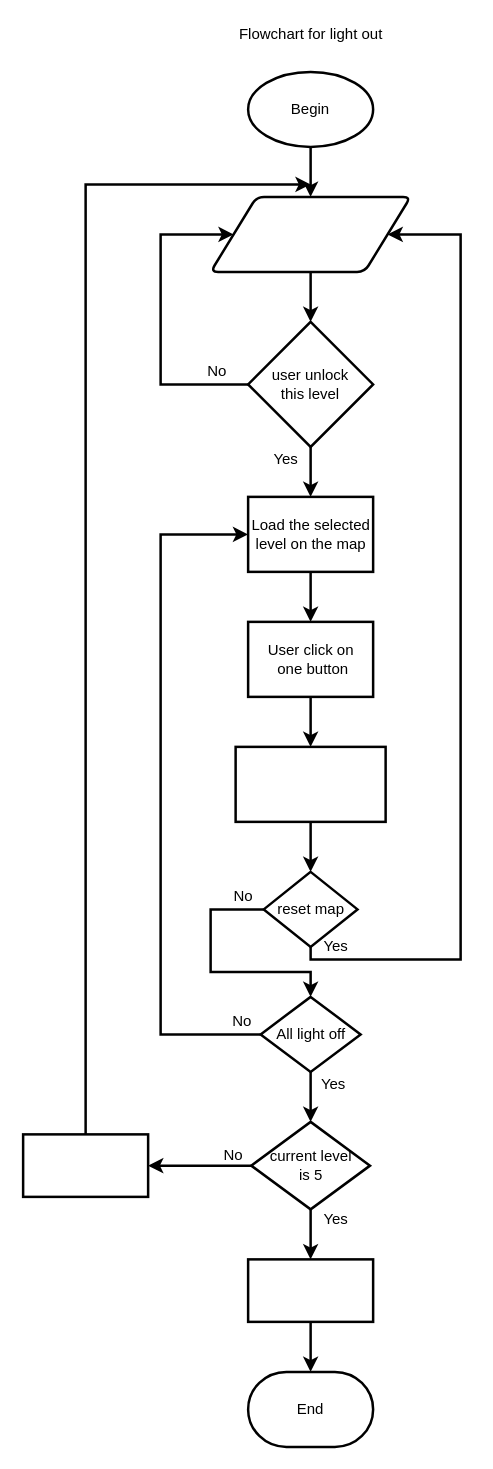
The diagram is 493 pixels wide and 1469 high, and some of its shapes have lost their labels. Here are the shapes that lost their labels. From the top down, the centre of each, then its label:
point 310,233: input level number (defult = levle 1)
point 310,783: switch off or switch on the button around the selected button.
point 85,1165: Unlock next level
point 310,1290: display congratulation page
